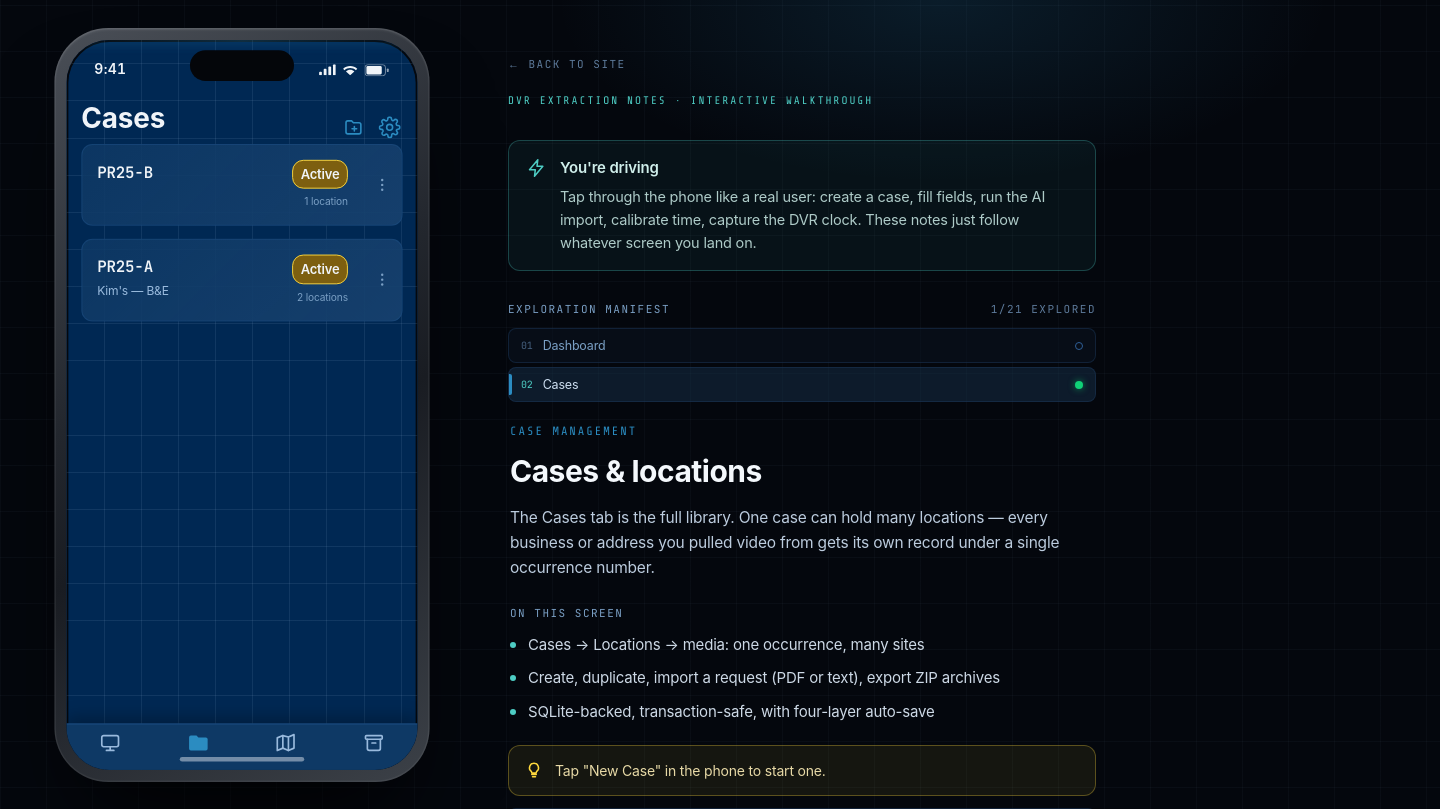
it: DemoExperience — delete a case › leaves everything alone on Cancel — and on Escape
Step 1. Click the button named "Actions for case PR25-A" → (382, 280), box [363,240,402,320]
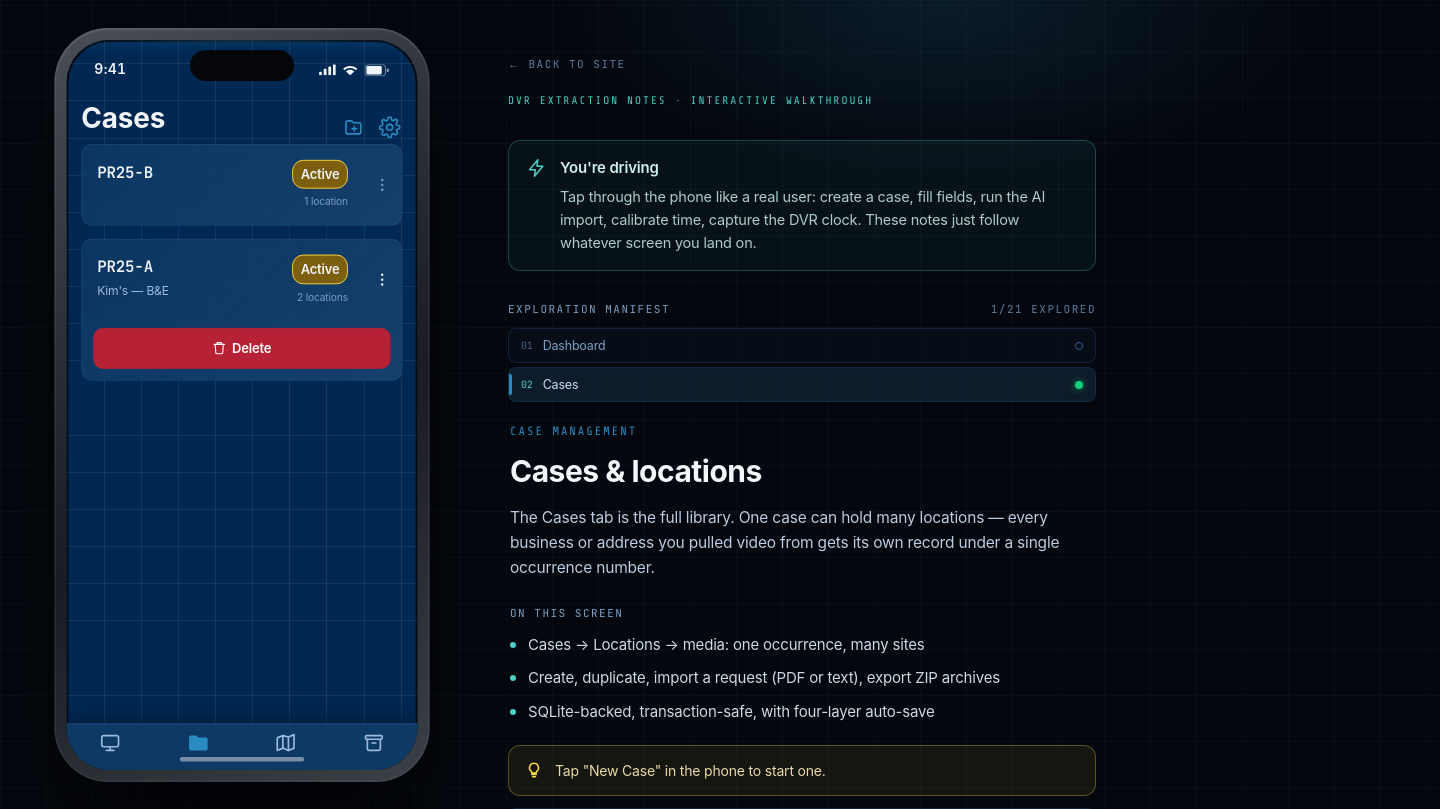
Step 2. Click the button "Delete" → (242, 348), box [93,328,390,368]
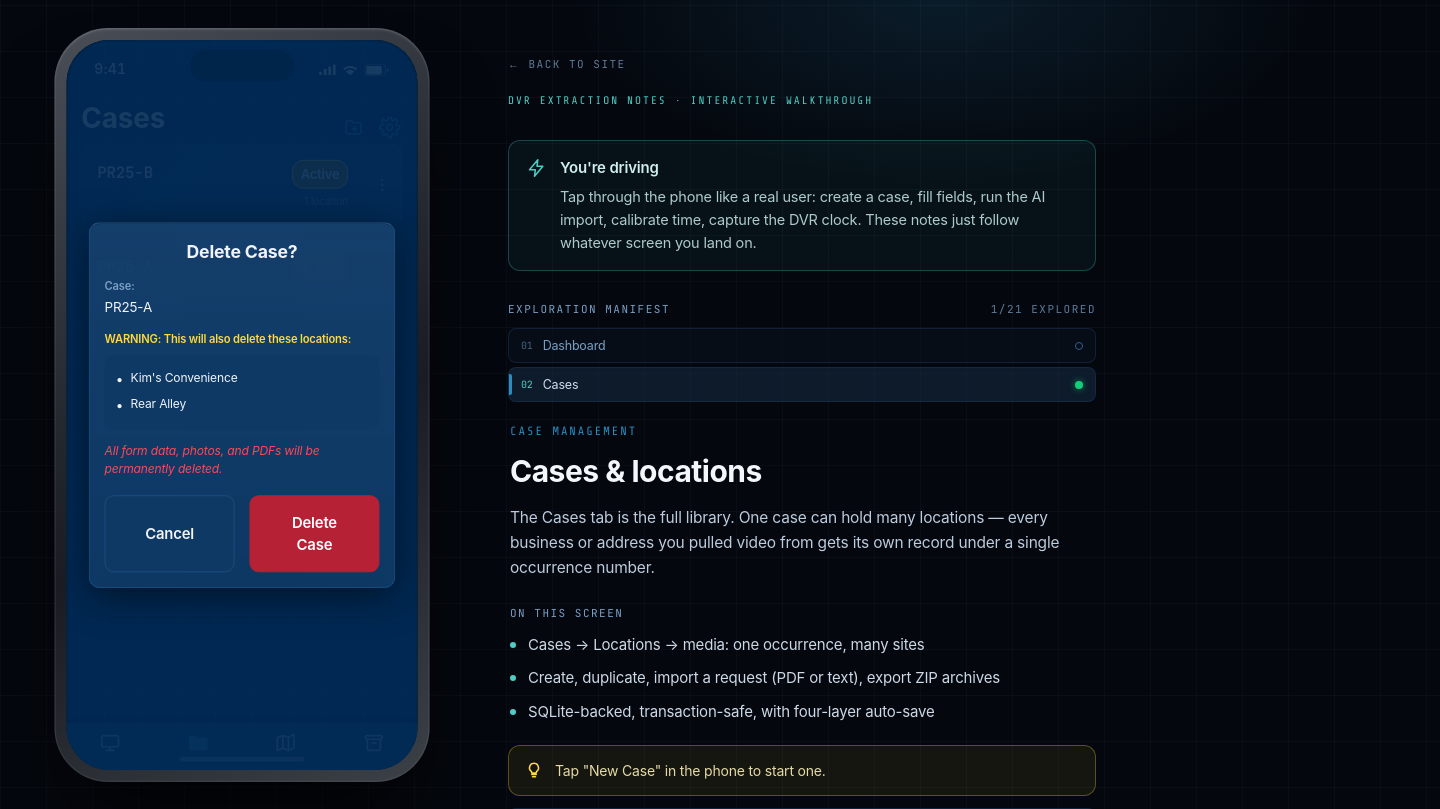
Step 3. Click the button with test id "delete-modal-cancel" → (170, 533), box [105,495,235,572]
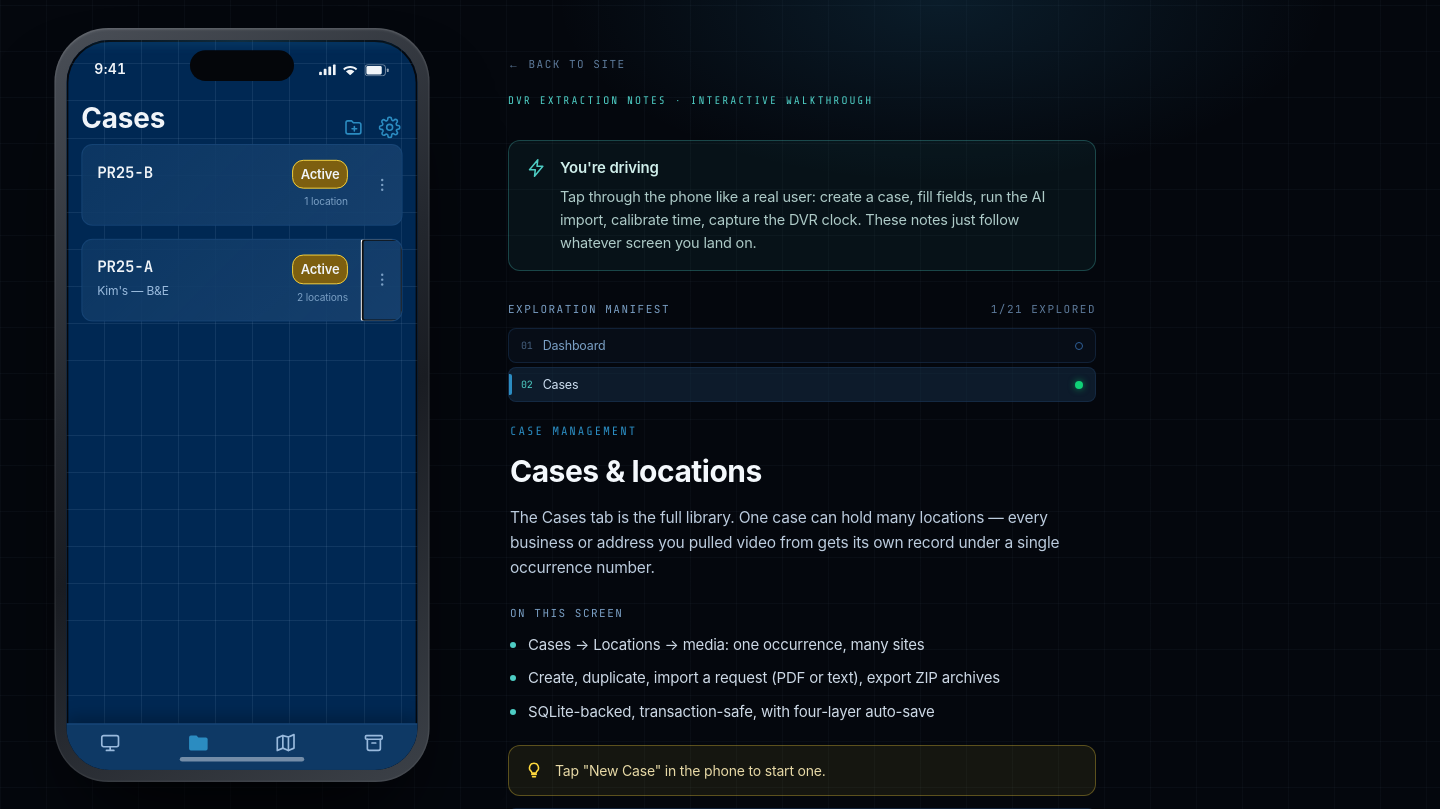
Expected: the dialog is gone
Step 4. Click the button named "Actions for case PR25-A" → (382, 280), box [363,240,402,320]
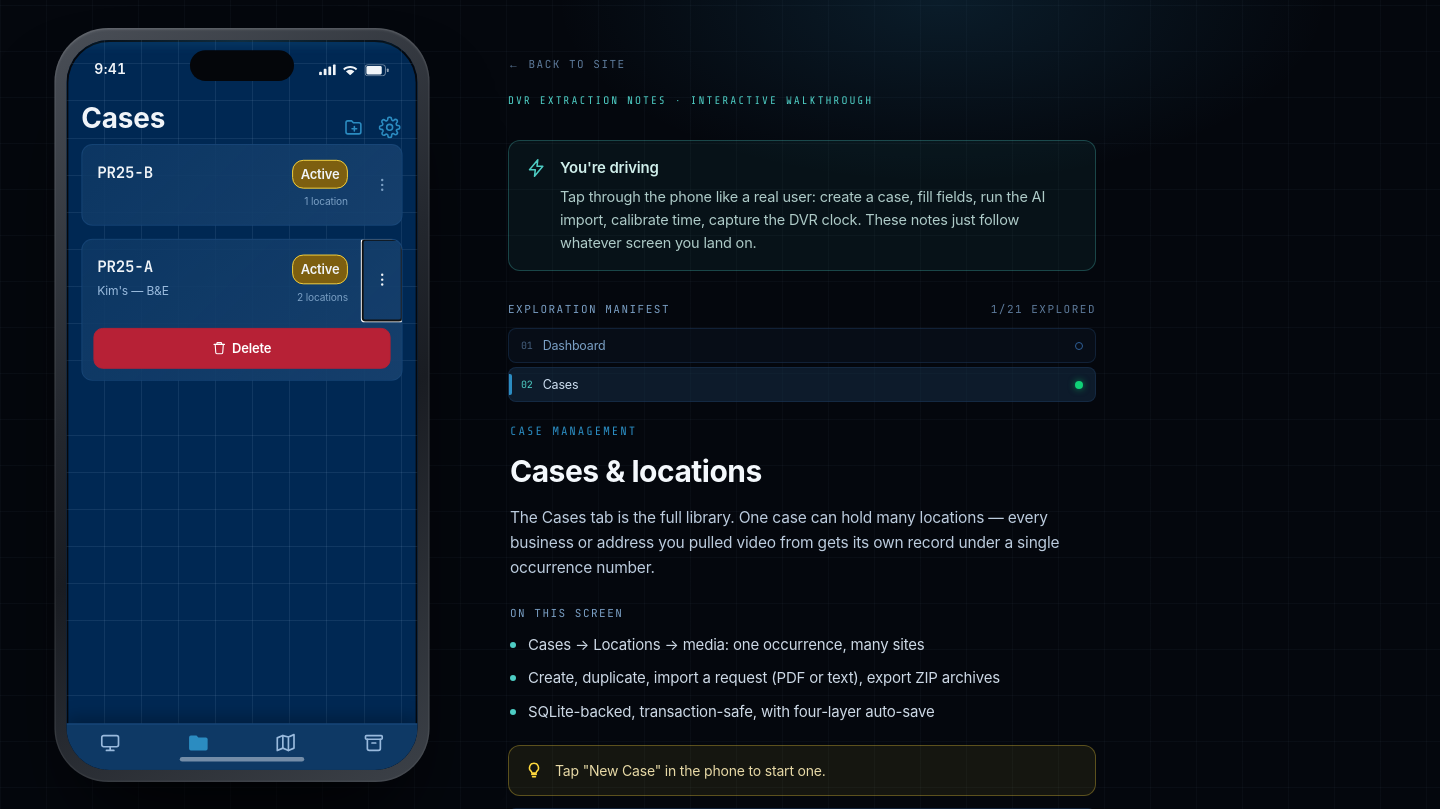
Step 5. Click the button "Delete" → (242, 348), box [93,328,390,368]
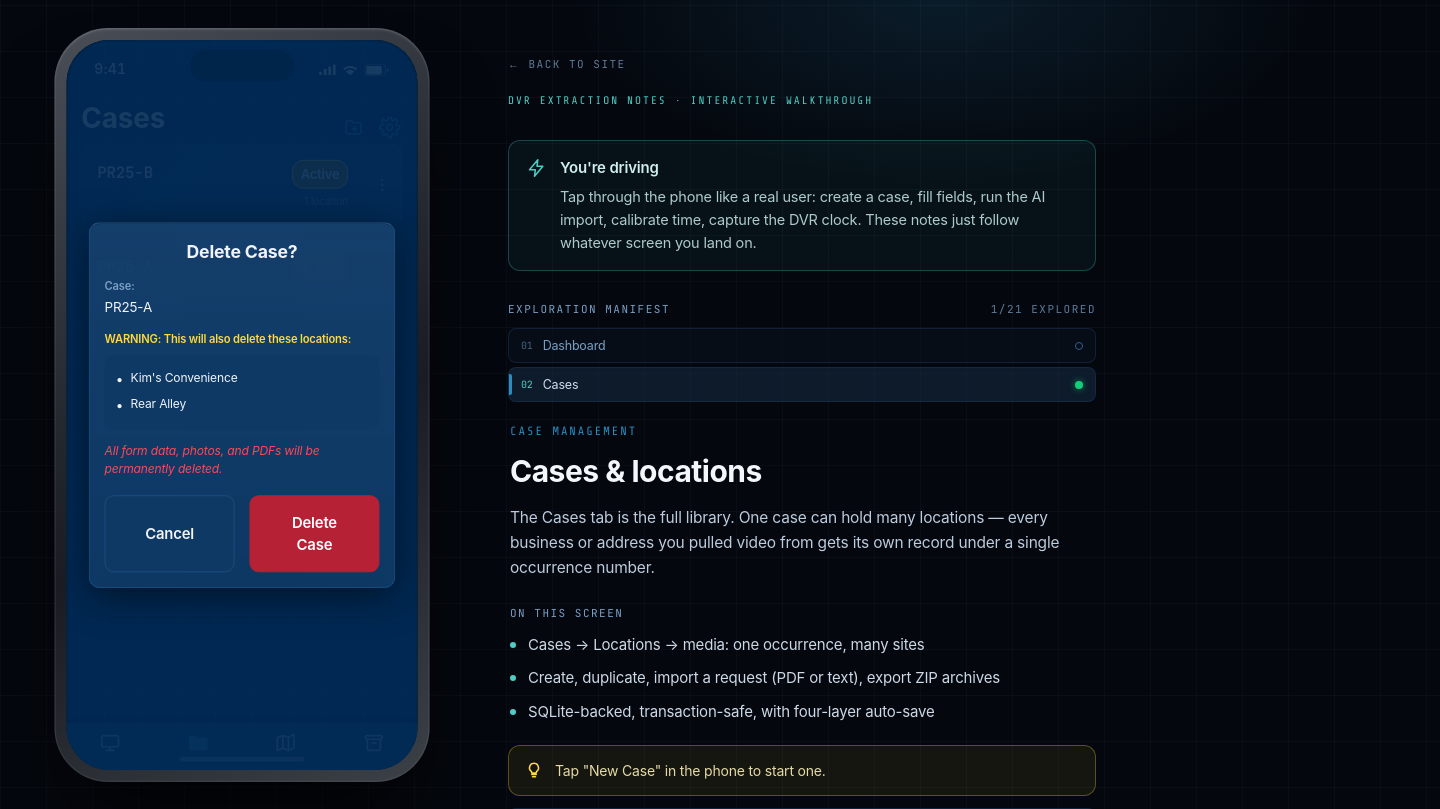
Step 6. Press Escape
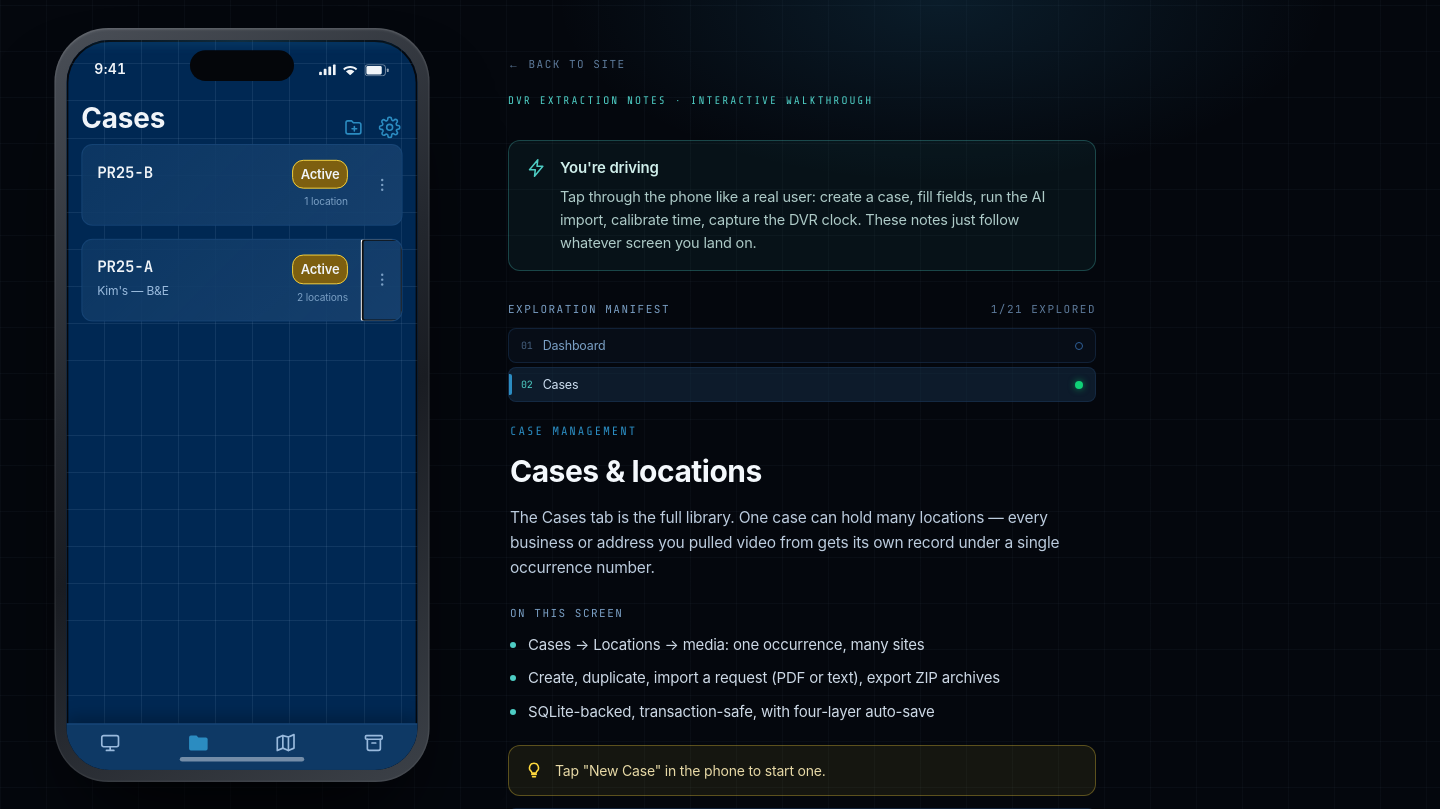
Expected: the dialog is gone
